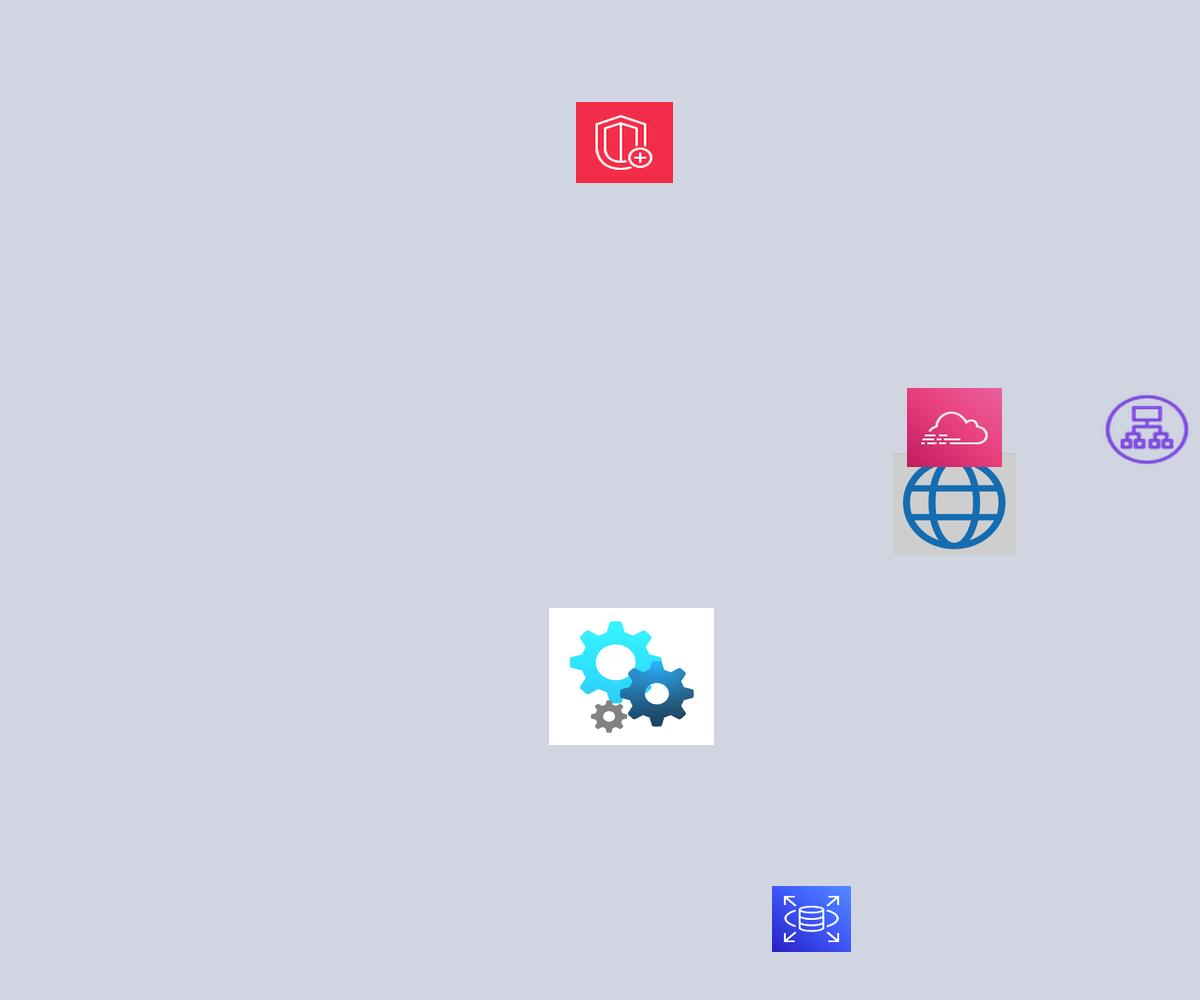AWS-CloudTrail: (907, 388, 1002, 467)
AWS-RDS: (772, 886, 851, 952)
AWS-Res_Elastic-Load-Balancing_Application-Load-Balancer: (1102, 392, 1192, 467)
AWS-Shield: (576, 102, 673, 183)
Azure_api: (549, 608, 714, 745)
Azure_http: (893, 453, 1016, 555)
